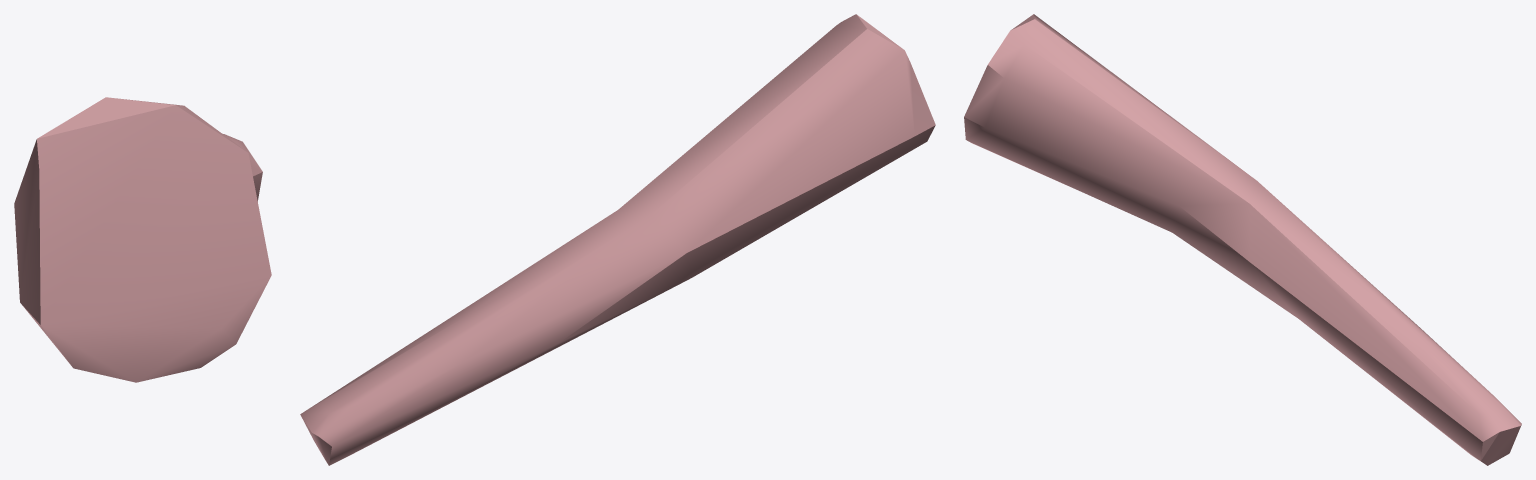
File: fma68224_fj6520.glb
3 renders of one model, left to right at view 1: azimuth 30°, elevation 25°; view 2: azimuth 150°, elevation 25°; view 3: azimuth 270°, elevation 25°, orthographic. The views are drawn at different scales.
Visible parts, largest first — view 1: FMA68224_FJ6520; view 2: FMA68224_FJ6520; view 3: FMA68224_FJ6520.
Part boxes in pixels (left/top/right/bottom): FMA68224_FJ6520: left=14, top=97, right=271, bottom=382; FMA68224_FJ6520: left=300, top=14, right=935, bottom=465; FMA68224_FJ6520: left=964, top=14, right=1521, bottom=465.
Bounding box in the file's own units: 0.0138 × 0.0116 × 0.019.
